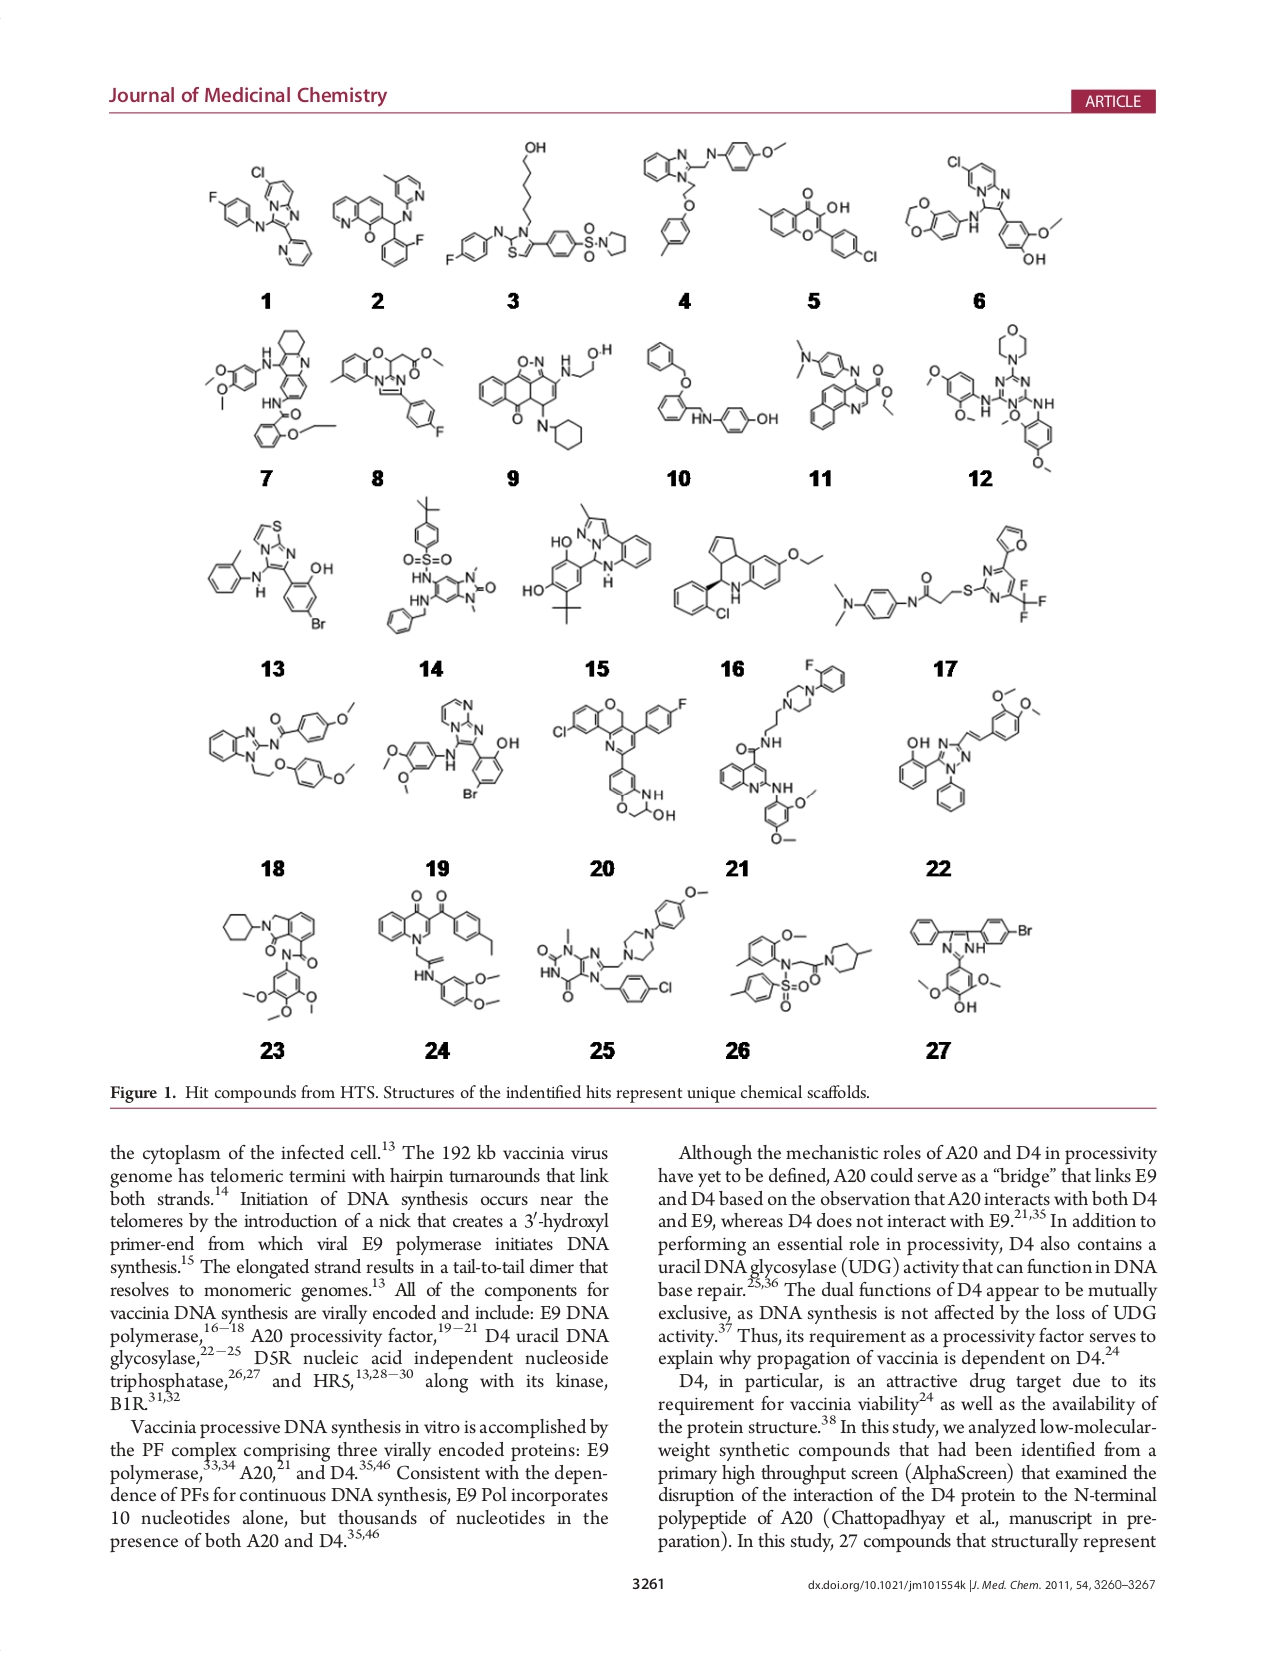exist_molecular: (717, 656, 848, 844), (831, 519, 1049, 628), (444, 140, 628, 265), (533, 884, 707, 1005), (922, 321, 1057, 473), (902, 153, 1065, 266), (896, 686, 1043, 813), (551, 694, 688, 822), (641, 140, 787, 258), (519, 501, 653, 628), (203, 326, 338, 449), (382, 495, 497, 637), (375, 887, 505, 1012), (476, 339, 616, 452), (205, 515, 336, 632), (380, 696, 523, 802), (640, 334, 782, 435), (670, 532, 824, 622), (206, 700, 358, 789), (727, 926, 874, 1015), (907, 914, 1035, 1013), (205, 162, 314, 270), (219, 910, 320, 1023), (328, 344, 449, 438), (791, 334, 894, 432), (758, 186, 879, 267), (330, 174, 428, 270)
